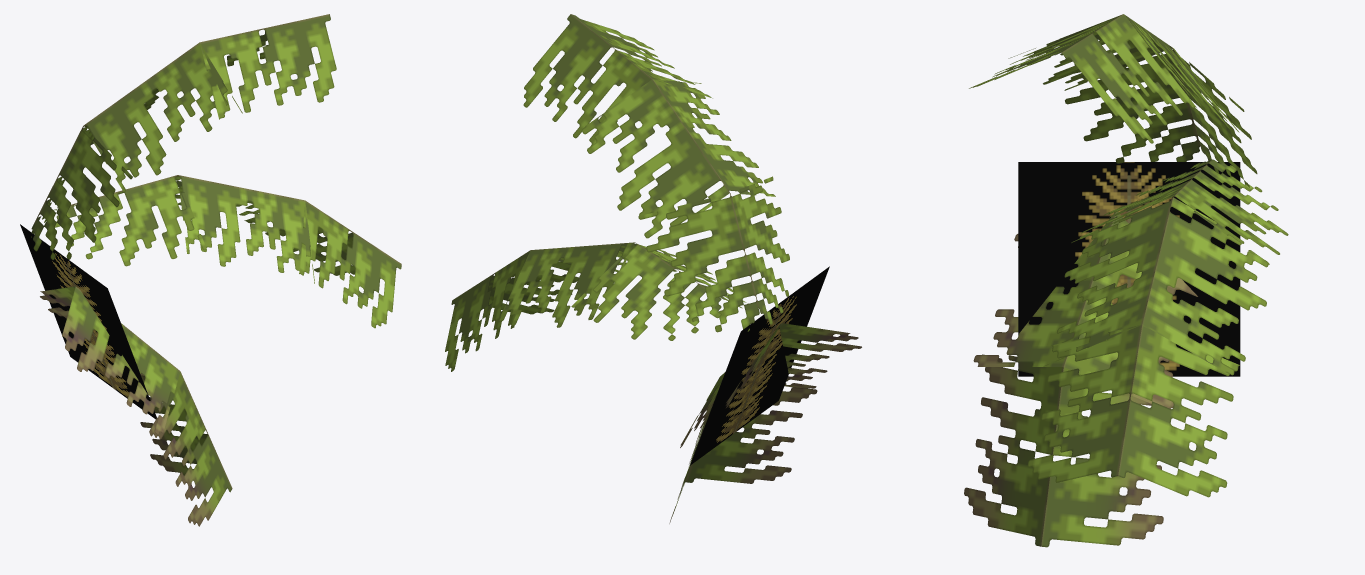
The model's file is palm_straight_2.obj.
3 renders of one model, left to right at view 1: azimuth 30°, elevation 25°; view 2: azimuth 150°, elevation 25°; view 3: azimuth 270°, elevation 25°, orthographic. The views are drawn at different scales.
Visible parts, largest first — view 1: cube.231; view 2: cube.231; view 3: cube.231.
Boxes of the visible parts, <box> form: cube.231: <box>20,14,401,526</box>; cube.231: <box>445,14,861,523</box>; cube.231: <box>964,14,1288,547</box>.
Size of the model in its own units: 3.81 by 4.33 by 2.8.
